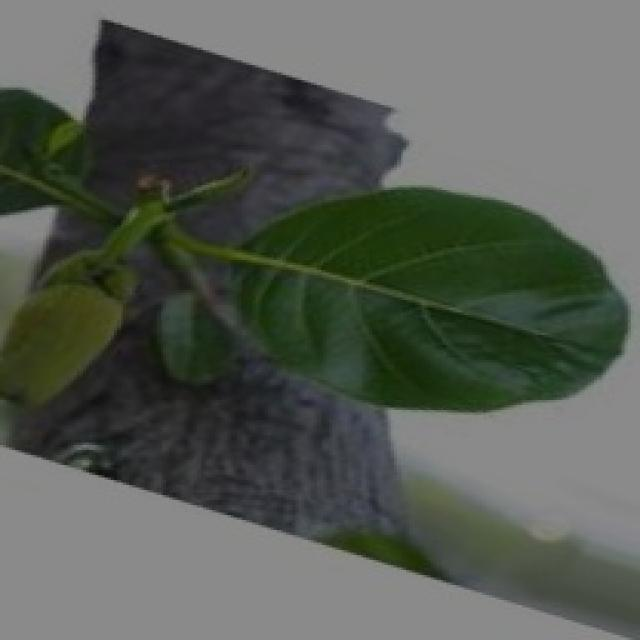Fruit: (0, 255, 145, 437)
